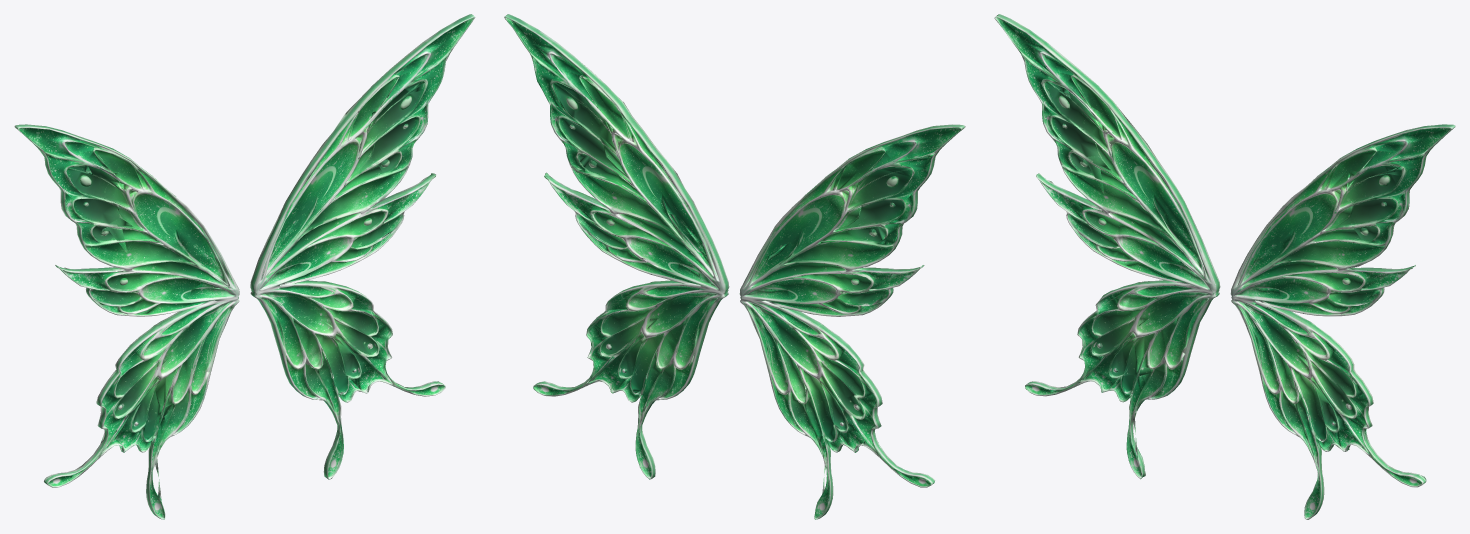
Rendered from fairy_wings.glb.
The picture shows the model from 3 angles, left to right: view 1: azimuth 30°, elevation 25°; view 2: azimuth 150°, elevation 25°; view 3: azimuth 330°, elevation 25°; orthographic projection.
Bounding box in the file's own units: 0.9468 × 0.8447 × 0.0269.
1 material, 1 textured.
